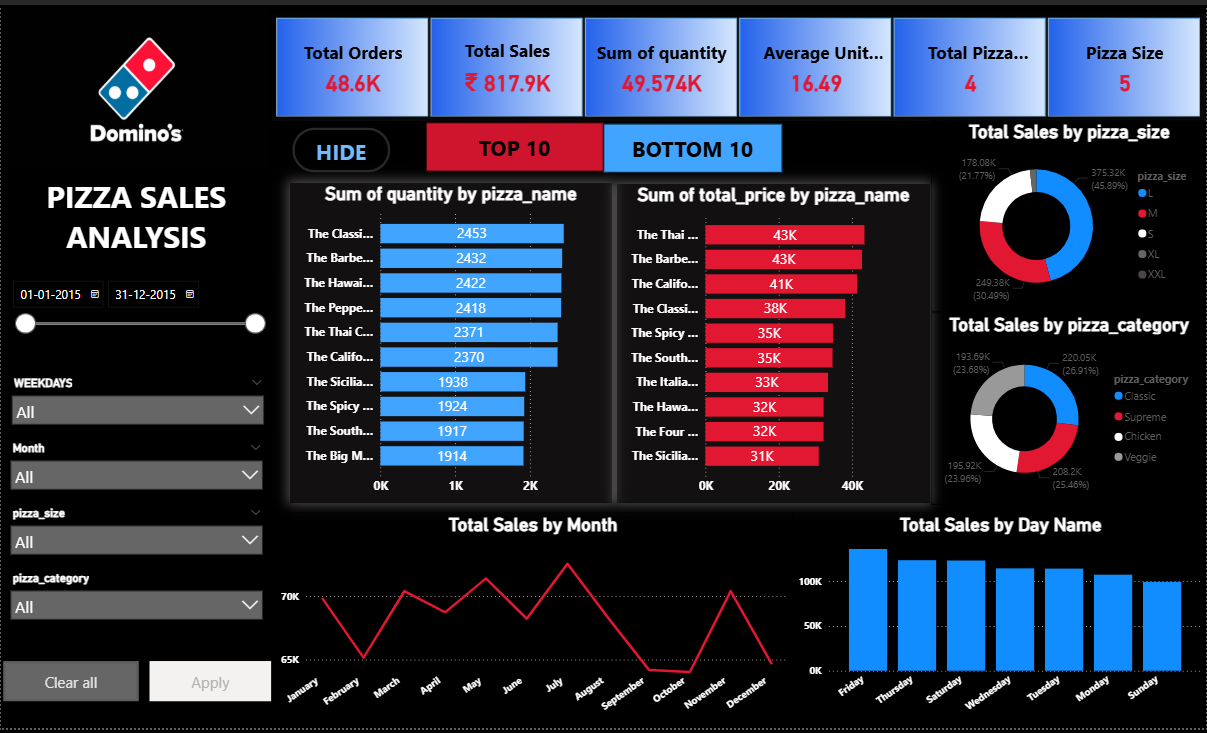

Layout of this report page (visuals, bound fields, positions):
{"tool":"powerbi","page":{"name":"Page 1","canvas":[1500,900],"ordinal":0},"visuals":[{"type":"cardVisual","fields":{"Data":["pizza_sales.Total Orders","pizza_sales.Total Sales","Sum(pizza_sales.quantity)","pizza_sales.Average Unit Price","pizza_sales.Total Pizza types","pizza_sales.Pizza Size"]},"box":[338.1,11.1,1161.9,133.3],"z":0},{"type":"slicer","fields":{"Values":["pizza_sales.Day Name"]},"box":[3.4,457.7,334.1,80.2],"z":0,"group":"g1"},{"type":"barChart","fields":{"Category":["pizza_sales.pizza_name"],"Y":["Sum(pizza_sales.quantity)"]},"box":[359.2,220.8,401.2,398.1],"z":1000},{"type":"slicer","fields":{"Values":["pizza_sales.order_date.Variation.Date Hierarchy.Month"]},"box":[1.7,537.9,334.1,80.2],"z":1000,"group":"g1"},{"type":"barChart","fields":{"Category":["pizza_sales.pizza_name"],"Y":["Sum(pizza_sales.total_price)"]},"box":[766.7,222.2,388.9,396.8],"z":2000},{"type":"slicer","fields":{"Values":["pizza_sales.pizza_size"]},"box":[1.7,619.7,334.1,80.2],"z":2000,"group":"g1"},{"type":"donutChart","fields":{"Y":["pizza_sales.Total Sales"],"Category":["pizza_sales.pizza_size"]},"box":[1157.1,142.9,342.9,238.1],"z":3000},{"type":"slicer","fields":{"Values":["pizza_sales.pizza_category"]},"box":[1.7,699.9,334.1,80.2],"z":3000,"group":"g1"},{"type":"actionButton","box":[749.5,147.7,222.4,60.6],"z":4000},{"type":"actionButton","box":[528.7,146.2,220.8,60.6],"z":5000},{"type":"donutChart","fields":{"Y":["pizza_sales.Total Sales"],"Category":["pizza_sales.pizza_category"]},"box":[1157.6,382.5,342.4,238.9],"z":6000},{"type":"lineChart","fields":{"Category":["pizza_sales.order_date.Variation.Date Hierarchy.Month"],"Y":["pizza_sales.Total Sales"]},"box":[338.1,631.7,647.6,268.3],"z":7000},{"type":"columnChart","fields":{"Y":["pizza_sales.Total Sales"],"Category":["pizza_sales.Day Name"]},"box":[985.7,631.7,514.3,268.3],"z":8000},{"type":"image","box":[0,0,337.4,207.1],"z":9000},{"type":"textbox","box":[1.7,206.7,333.8,115.2],"z":10000},{"type":"slicer","fields":{"Values":["pizza_sales.order_date"]},"box":[1,328,337,131],"z":11000},{"type":"textbox","box":[1.7,457.7,335.7,442.7],"z":12000},{"type":"group","id":"g1","title":"Group 1","box":[1.7,457.7,335.7,322.4],"z":13000},{"type":"actionButton","box":[185,816.3,150.8,49.8],"z":14000},{"type":"actionButton","box":[3.1,816.3,167.9,49.8],"z":15000},{"type":"actionButton","box":[362.3,152.4,122,56],"z":16000}]}

Visuals, with their boxes in screenshot pixels (x1, y1, x2, y2), scaled from the page's 1500x900 canvas onto the 1207x733 screenshot:
cardVisual - pizza_sales.Total Orders x pizza_sales.Total Sales: pyautogui.locateOnScreen(272, 9, 1206, 118)
slicer - pizza_sales.Day Name: pyautogui.locateOnScreen(3, 373, 272, 438)
barChart - pizza_sales.pizza_name x Sum(pizza_sales.quantity): pyautogui.locateOnScreen(289, 180, 612, 504)
slicer - pizza_sales.order_date.Variation.Date Hierarchy.Month: pyautogui.locateOnScreen(1, 438, 270, 503)
barChart - pizza_sales.pizza_name x Sum(pizza_sales.total_price): pyautogui.locateOnScreen(617, 181, 930, 504)
slicer - pizza_sales.pizza_size: pyautogui.locateOnScreen(1, 505, 270, 570)
donutChart - pizza_sales.Total Sales x pizza_sales.pizza_size: pyautogui.locateOnScreen(931, 116, 1206, 310)
slicer - pizza_sales.pizza_category: pyautogui.locateOnScreen(1, 570, 270, 635)
actionButton: pyautogui.locateOnScreen(603, 120, 782, 170)
actionButton: pyautogui.locateOnScreen(425, 119, 603, 168)
donutChart - pizza_sales.Total Sales x pizza_sales.pizza_category: pyautogui.locateOnScreen(931, 312, 1206, 506)
lineChart - pizza_sales.order_date.Variation.Date Hierarchy.Month x pizza_sales.Total Sales: pyautogui.locateOnScreen(272, 514, 793, 732)
columnChart - pizza_sales.Total Sales x pizza_sales.Day Name: pyautogui.locateOnScreen(793, 514, 1206, 732)
image: pyautogui.locateOnScreen(0, 0, 271, 169)
textbox: pyautogui.locateOnScreen(1, 168, 270, 262)
slicer - pizza_sales.order_date: pyautogui.locateOnScreen(1, 267, 272, 374)
textbox: pyautogui.locateOnScreen(1, 373, 271, 732)
"Group 1" group: pyautogui.locateOnScreen(1, 373, 271, 635)
actionButton: pyautogui.locateOnScreen(149, 665, 270, 705)
actionButton: pyautogui.locateOnScreen(2, 665, 138, 705)
actionButton: pyautogui.locateOnScreen(292, 124, 390, 170)
